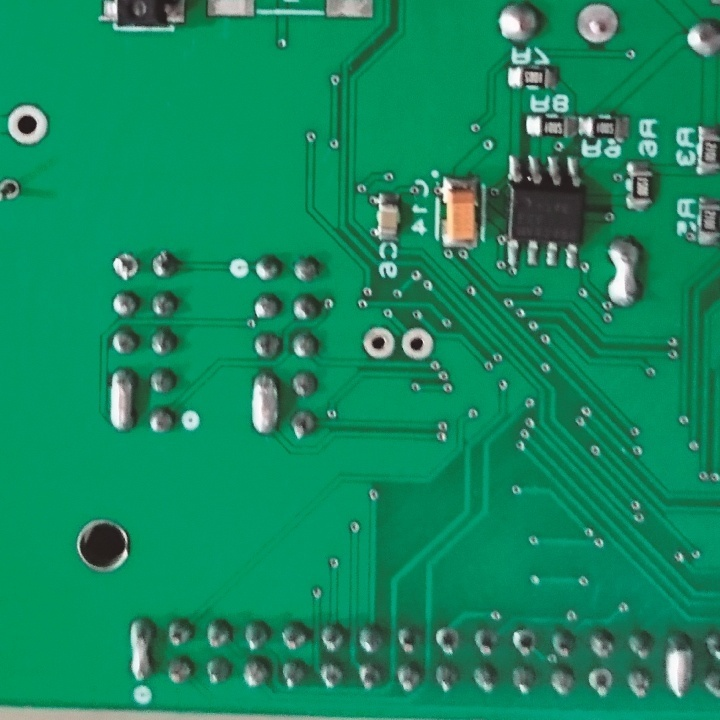F: (6, 101, 51, 150), (575, 1, 624, 44), (361, 323, 395, 364), (400, 323, 432, 363), (587, 667, 616, 703), (510, 626, 539, 659), (109, 252, 139, 283), (436, 626, 462, 656), (1, 175, 24, 206)
P: (603, 235, 641, 309), (247, 368, 284, 437), (663, 631, 696, 702), (125, 612, 155, 683), (107, 366, 136, 437)
